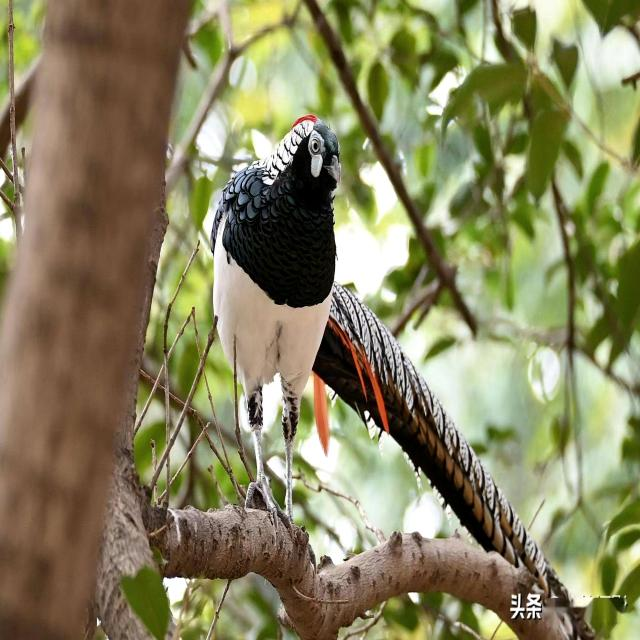Chrysolophus amherstiae: (313, 284, 570, 606)
